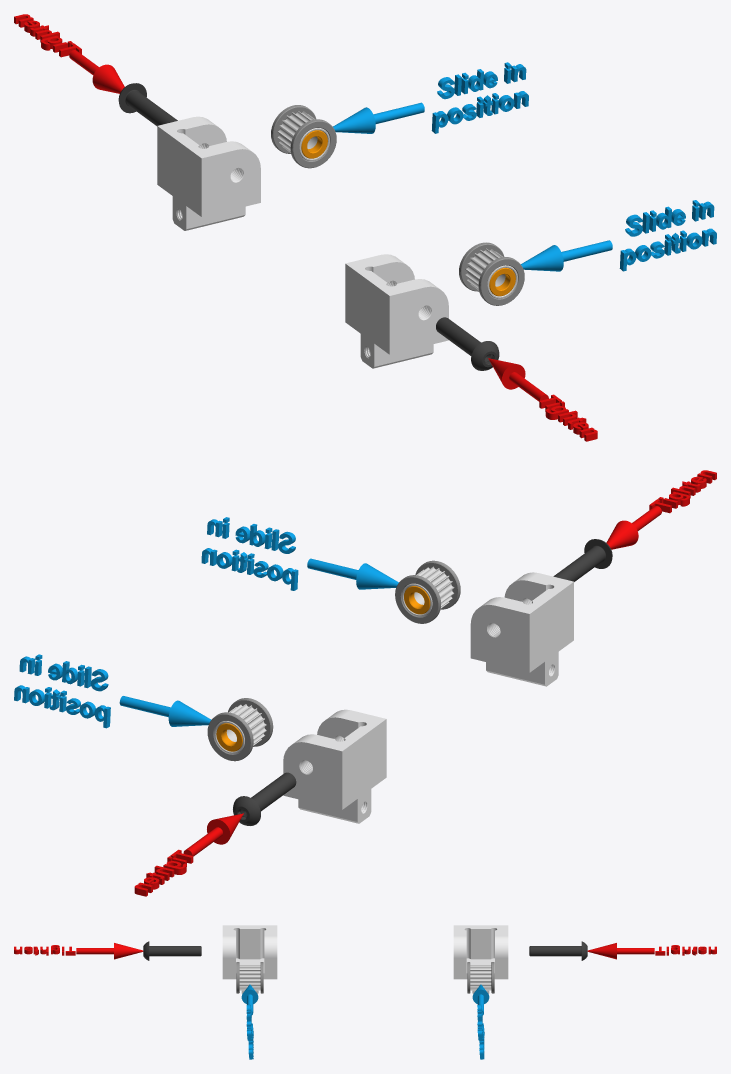
3 views of the same model, one above another, from view 1: azimuth 30°, elevation 25°; view 2: azimuth 150°, elevation 25°; view 3: azimuth 270°, elevation 25° (orthographic). The views are drawn at different scales.
Visible parts, largest first — view 1: 03_04__XP__Tensioner_Y_Axis_Belt___V1.0 v001, 03_04__XP__Tensioner_Y_Axis_Belt___V1.0 v9, 2GT 20T 9W \X2\9F7F9762\X0\ \X2\60F08F6E\X0\ v001, 2GT 20T 9W \X2\9F7F9762\X0\ \X2\60F08F6E\X0\ v2, ISO 7380 Stahl 10.9 schwarz M5x25, 1_2_Arrow_blue_slide_in_position v2, 1_2_Arrow_blue_slide_in_position v021, ISO 7380 Stahl 10.9 schwarz M5x001, 1_0_Arrow_red-Assemble v4, 1_0_Arrow_red-Assemble v010; view 2: 03_04__XP__Tensioner_Y_Axis_Belt___V1.0 v9, 03_04__XP__Tensioner_Y_Axis_Belt___V1.0 v001, 2GT 20T 9W \X2\9F7F9762\X0\ \X2\60F08F6E\X0\ v001, 2GT 20T 9W \X2\9F7F9762\X0\ \X2\60F08F6E\X0\ v2, ISO 7380 Stahl 10.9 schwarz M5x001, 1_2_Arrow_blue_slide_in_position v2, 1_2_Arrow_blue_slide_in_position v021, ISO 7380 Stahl 10.9 schwarz M5x25, 1_0_Arrow_red-Assemble v010, 1_0_Arrow_red-Assemble v4; view 3: 03_04__XP__Tensioner_Y_Axis_Belt___V1.0 v9, 03_04__XP__Tensioner_Y_Axis_Belt___V1.0 v001, 2GT 20T 9W \X2\9F7F9762\X0\ \X2\60F08F6E\X0\ v2, 2GT 20T 9W \X2\9F7F9762\X0\ \X2\60F08F6E\X0\ v001, ISO 7380 Stahl 10.9 schwarz M5x25, ISO 7380 Stahl 10.9 schwarz M5x001, 1_0_Arrow_red-Assemble v4, 1_0_Arrow_red-Assemble v010, 1_2_Arrow_blue_slide_in_position v2, 1_2_Arrow_blue_slide_in_position v021.
Boxes of the visible parts, bbox=[...] form: 03_04__XP__Tensioner_Y_Axis_Belt___V1.0 v001: bbox=[157, 116, 260, 230]; 03_04__XP__Tensioner_Y_Axis_Belt___V1.0 v9: bbox=[345, 254, 448, 368]; 2GT 20T 9W \X2\9F7F9762\X0\ \X2\60F08F6E\X0\ v001: bbox=[271, 105, 336, 168]; 2GT 20T 9W \X2\9F7F9762\X0\ \X2\60F08F6E\X0\ v2: bbox=[459, 242, 524, 305]; ISO 7380 Stahl 10.9 schwarz M5x25: bbox=[436, 317, 499, 370]; 1_2_Arrow_blue_slide_in_position v2: bbox=[521, 240, 612, 271]; 1_2_Arrow_blue_slide_in_position v021: bbox=[333, 102, 424, 133]; ISO 7380 Stahl 10.9 schwarz M5x001: bbox=[118, 83, 177, 126]; 1_0_Arrow_red-Assemble v4: bbox=[488, 358, 548, 401]; 1_0_Arrow_red-Assemble v010: bbox=[69, 50, 124, 93]; 03_04__XP__Tensioner_Y_Axis_Belt___V1.0 v9: bbox=[470, 572, 573, 686]; 03_04__XP__Tensioner_Y_Axis_Belt___V1.0 v001: bbox=[283, 709, 386, 823]; 2GT 20T 9W \X2\9F7F9762\X0\ \X2\60F08F6E\X0\ v001: bbox=[207, 698, 273, 761]; 2GT 20T 9W \X2\9F7F9762\X0\ \X2\60F08F6E\X0\ v2: bbox=[395, 560, 460, 623]; ISO 7380 Stahl 10.9 schwarz M5x001: bbox=[233, 772, 296, 825]; 1_2_Arrow_blue_slide_in_position v2: bbox=[307, 558, 398, 589]; 1_2_Arrow_blue_slide_in_position v021: bbox=[119, 696, 211, 726]; ISO 7380 Stahl 10.9 schwarz M5x25: bbox=[553, 539, 612, 581]; 1_0_Arrow_red-Assemble v010: bbox=[183, 813, 243, 856]; 1_0_Arrow_red-Assemble v4: bbox=[606, 506, 661, 549]; 03_04__XP__Tensioner_Y_Axis_Belt___V1.0 v9: bbox=[222, 925, 277, 993]; 03_04__XP__Tensioner_Y_Axis_Belt___V1.0 v001: bbox=[453, 925, 508, 993]; 2GT 20T 9W \X2\9F7F9762\X0\ \X2\60F08F6E\X0\ v2: bbox=[236, 962, 263, 993]; 2GT 20T 9W \X2\9F7F9762\X0\ \X2\60F08F6E\X0\ v001: bbox=[467, 962, 494, 993]; ISO 7380 Stahl 10.9 schwarz M5x25: bbox=[143, 941, 201, 960]; ISO 7380 Stahl 10.9 schwarz M5x001: bbox=[529, 941, 587, 960]; 1_0_Arrow_red-Assemble v4: bbox=[76, 943, 143, 959]; 1_0_Arrow_red-Assemble v010: bbox=[587, 943, 654, 959]; 1_2_Arrow_blue_slide_in_position v2: bbox=[241, 984, 258, 1015]; 1_2_Arrow_blue_slide_in_position v021: bbox=[472, 984, 489, 1015].
Size of the model in its own units: 0.1177 by 0.0275 by 0.3349.
